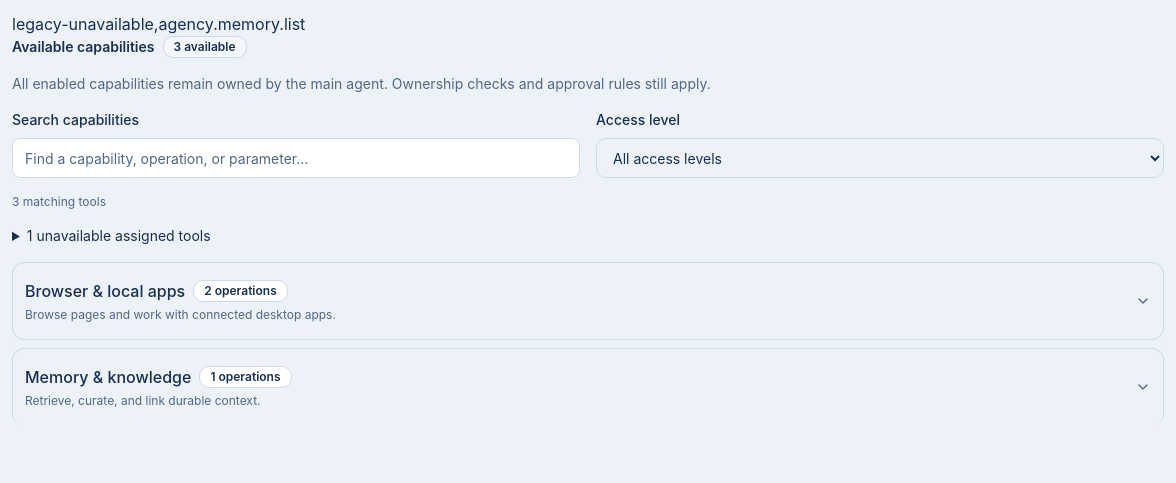
Test case: specialist capability selection › browses all main-agent operations without changing explicit assignments
Expected: the text "3 available" is shown, [162,36,247,58]
Step 1. Type "browser" into the field labelled "Search capabilities" → [296, 158], box [12,138,580,178]
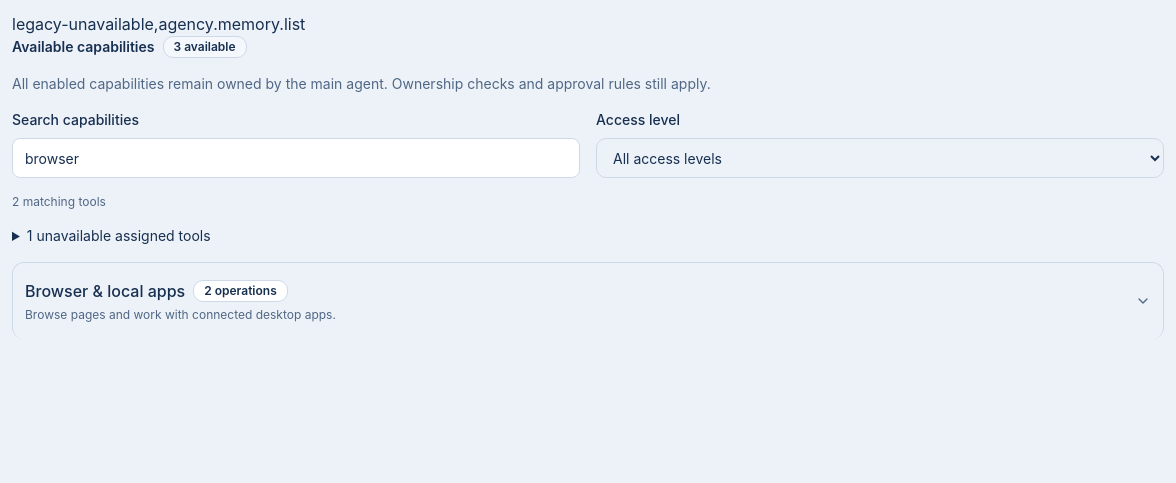
Result: the text "2 matching tools" is shown at [12,194,106,210]
Step 2. Replace the text in the field labelled "Search capabilities" with "console" → [296, 158], box [12,138,580,178]
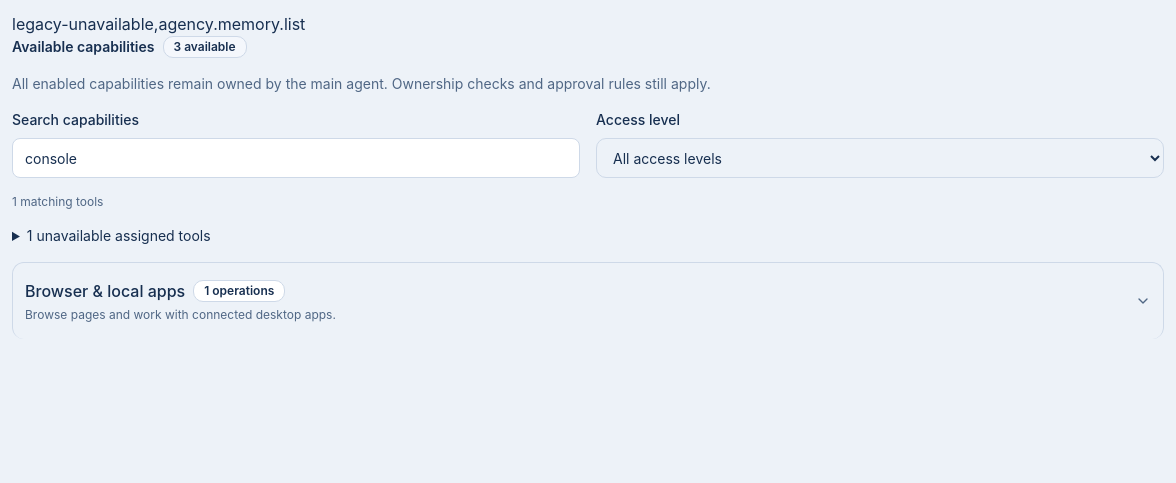
Result: the text "1 matching tools" is shown at [12,194,104,210]
Step 3. Click the button "Browser & local apps" → [105, 291], box [25,263,1151,339]
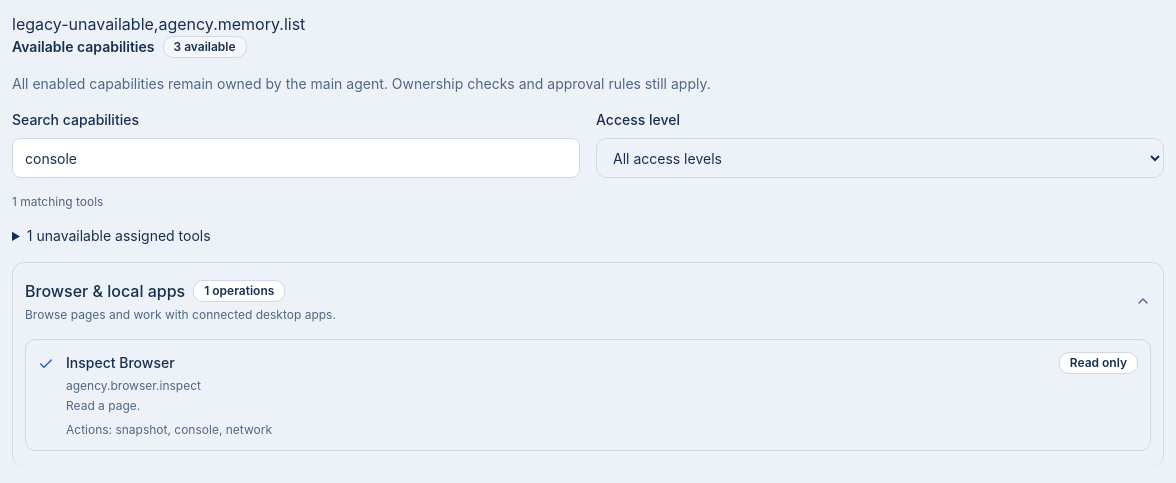
Expected: the text named "Selected IDs" reads "legacy-unavailable,agency.memory.list", [12,14,305,34]
Result: the text "Actions: snapshot, console, network" is shown at [66,422,272,437]
